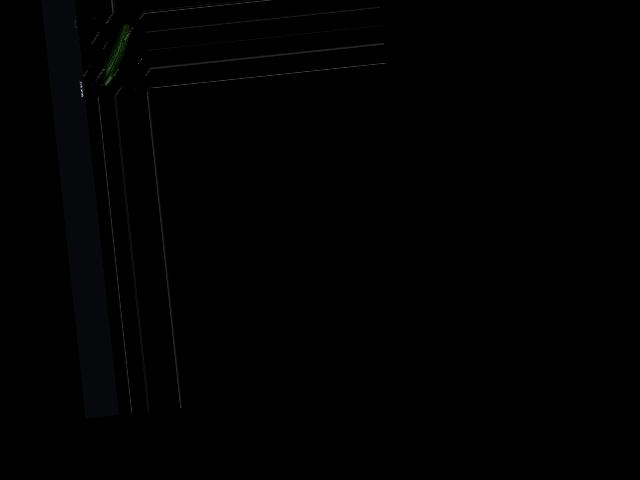cucumber: (91, 22, 135, 86)
